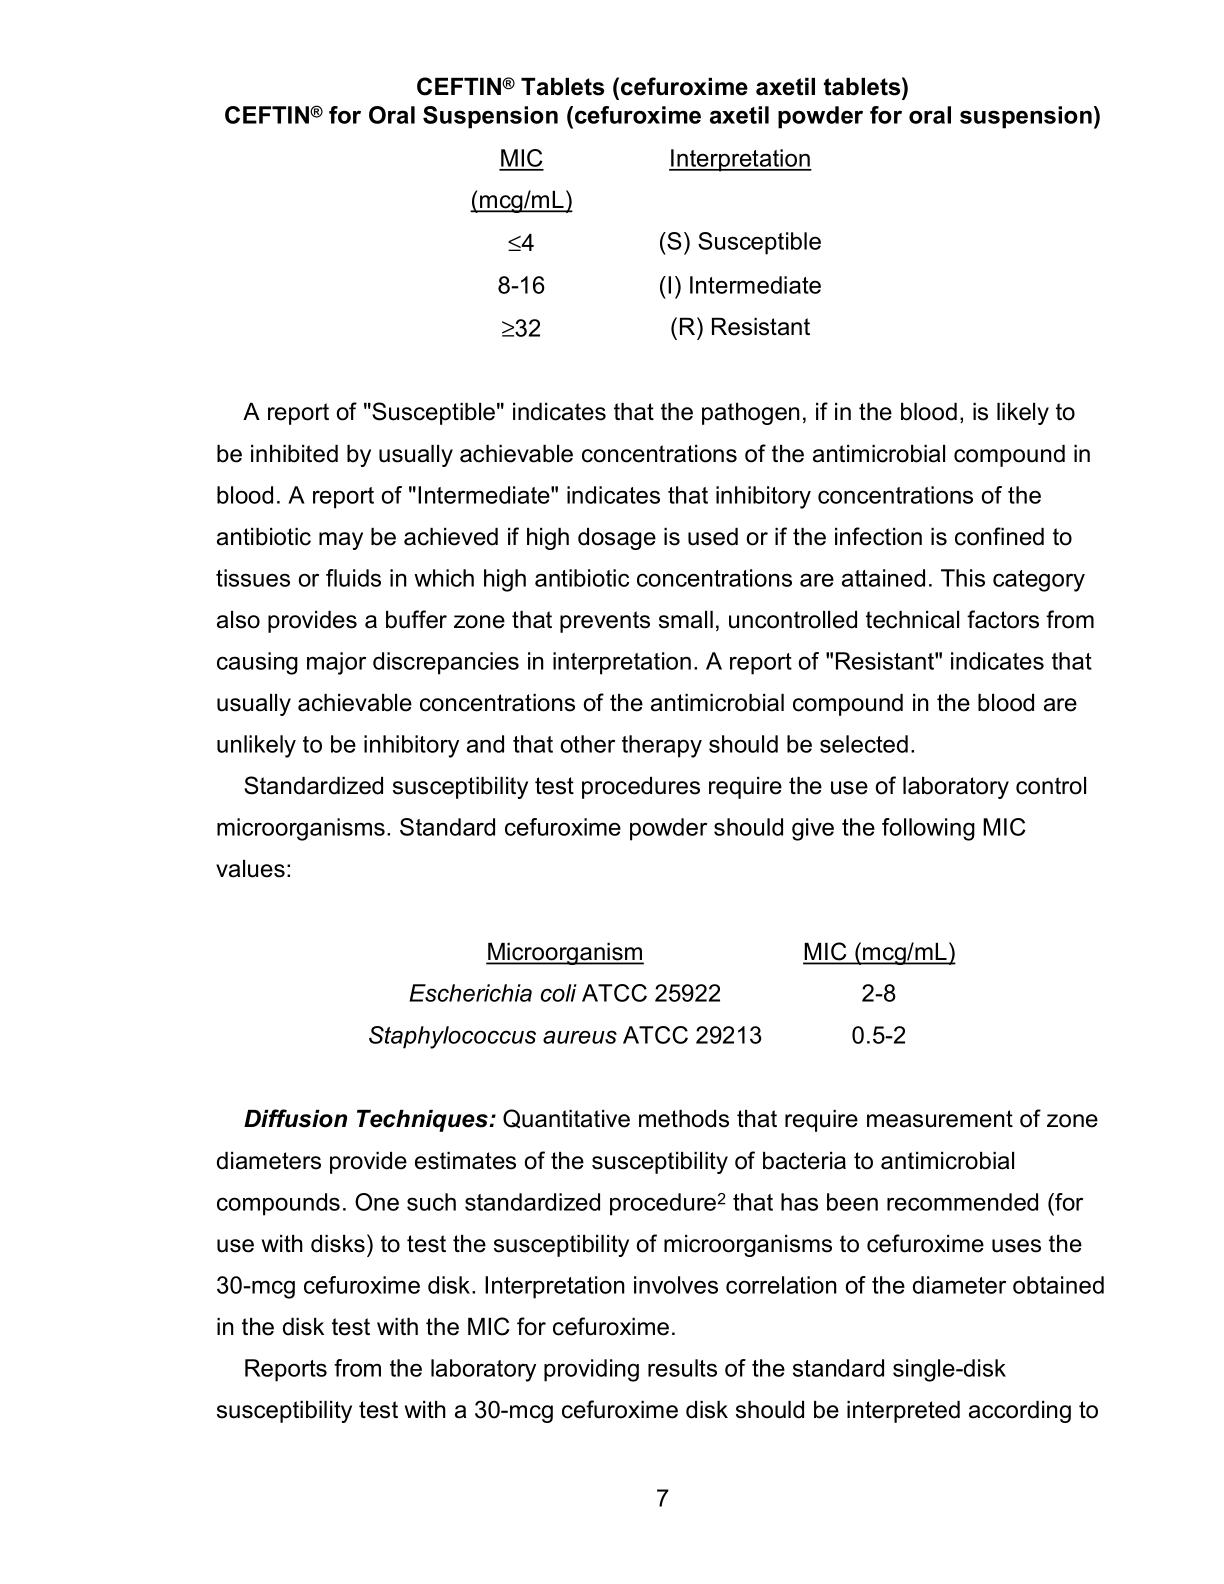nolines: (472, 144, 825, 345), (364, 936, 962, 1050)
